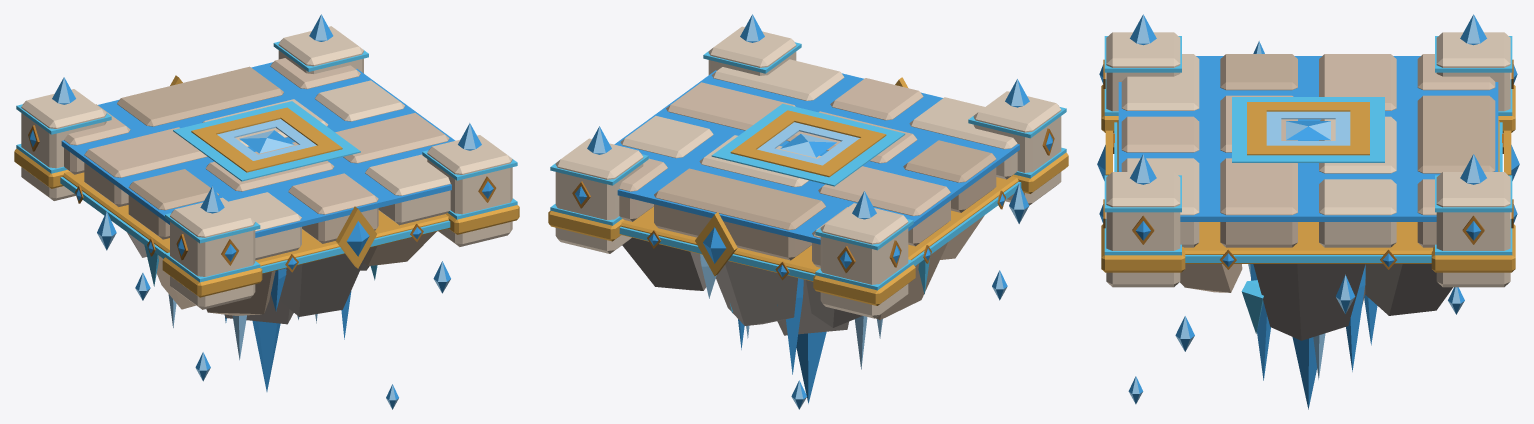
Rendered from Plataforma_Invisivel.fbx.
3 renders of one model, left to right at view 1: azimuth 30°, elevation 25°; view 2: azimuth 150°, elevation 25°; view 3: azimuth 270°, elevation 25°, orthographic. The views are drawn at different scales.
Visible parts, largest first — view 1: Plataforma_Invisivel; view 2: Plataforma_Invisivel; view 3: Plataforma_Invisivel.
Part boxes in pixels (x1,y1,x2,y2): Plataforma_Invisivel: [14, 14, 519, 409]; Plataforma_Invisivel: [548, 14, 1068, 409]; Plataforma_Invisivel: [1097, 14, 1519, 409].
Bounding box in the file's own units: 3.95 × 2.92 × 3.43.
